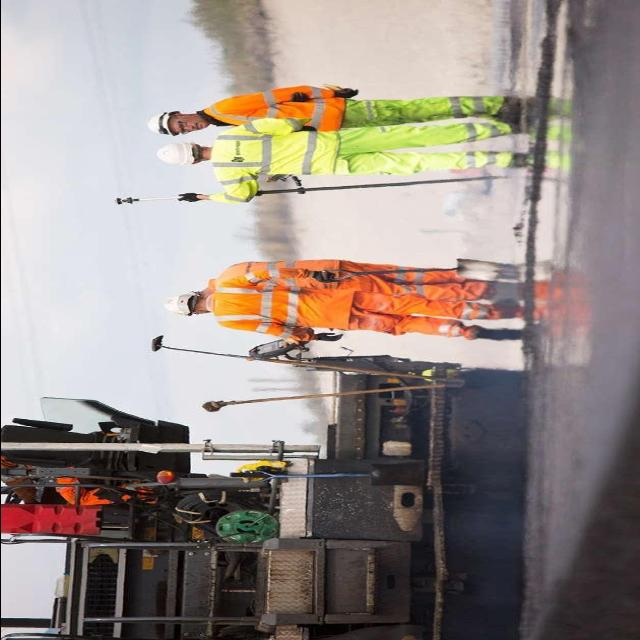helmet: (148, 140, 202, 168), (136, 110, 181, 138), (162, 294, 198, 316)
jacket: (206, 119, 335, 184), (214, 274, 335, 336)
